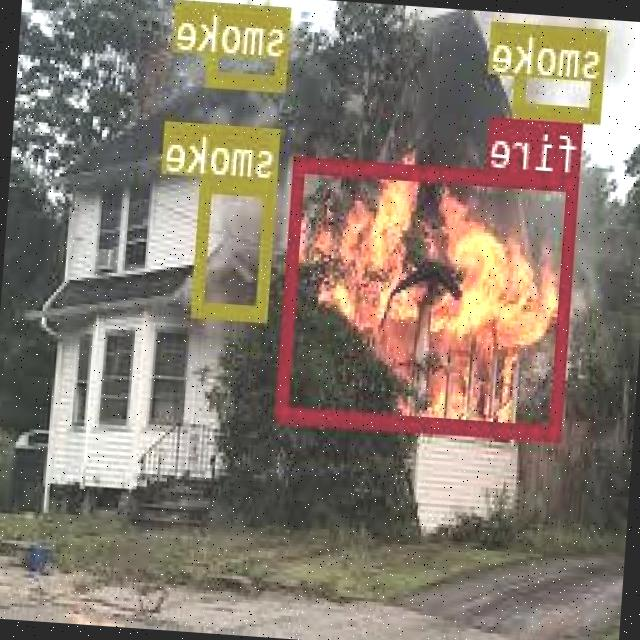fire: (279, 156, 580, 436)
smoke: (195, 174, 278, 320), (516, 23, 607, 121), (207, 0, 292, 89)
